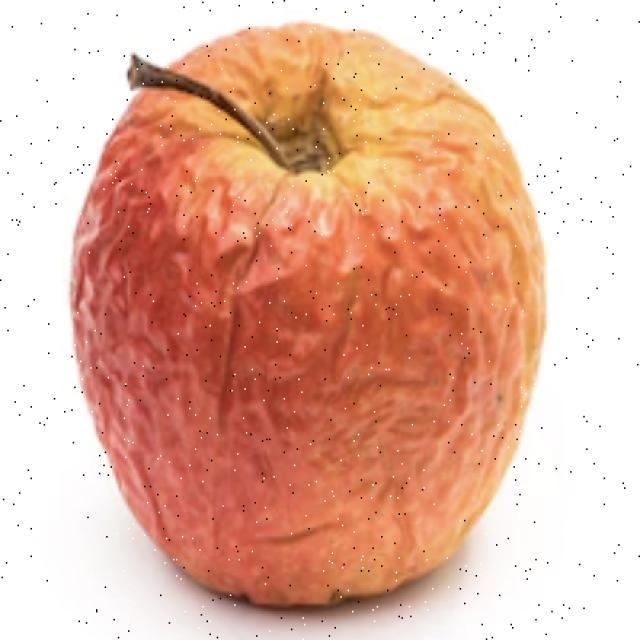Rotten: (88, 42, 555, 583)
